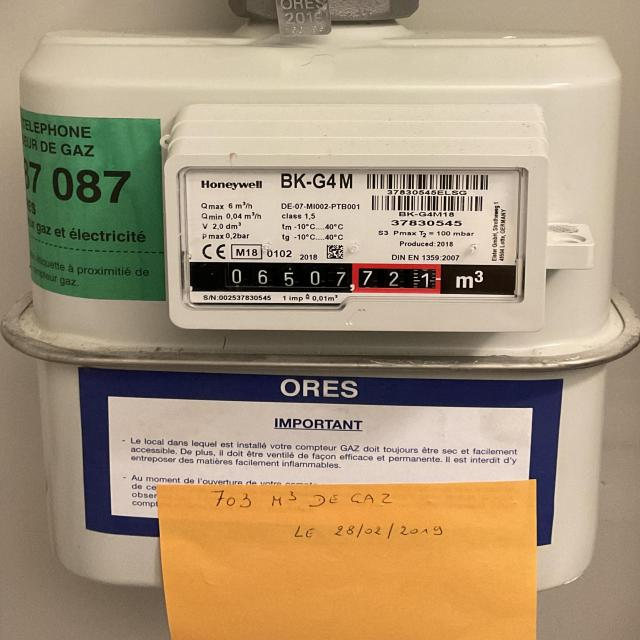gaz_meter: (180, 165, 528, 300)
indication: (189, 262, 445, 292)
